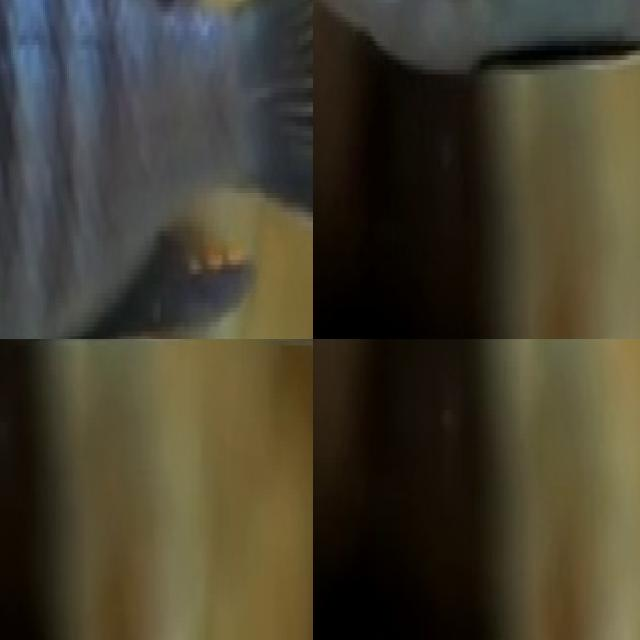fish: (0, 0, 313, 339), (573, 339, 640, 640)
